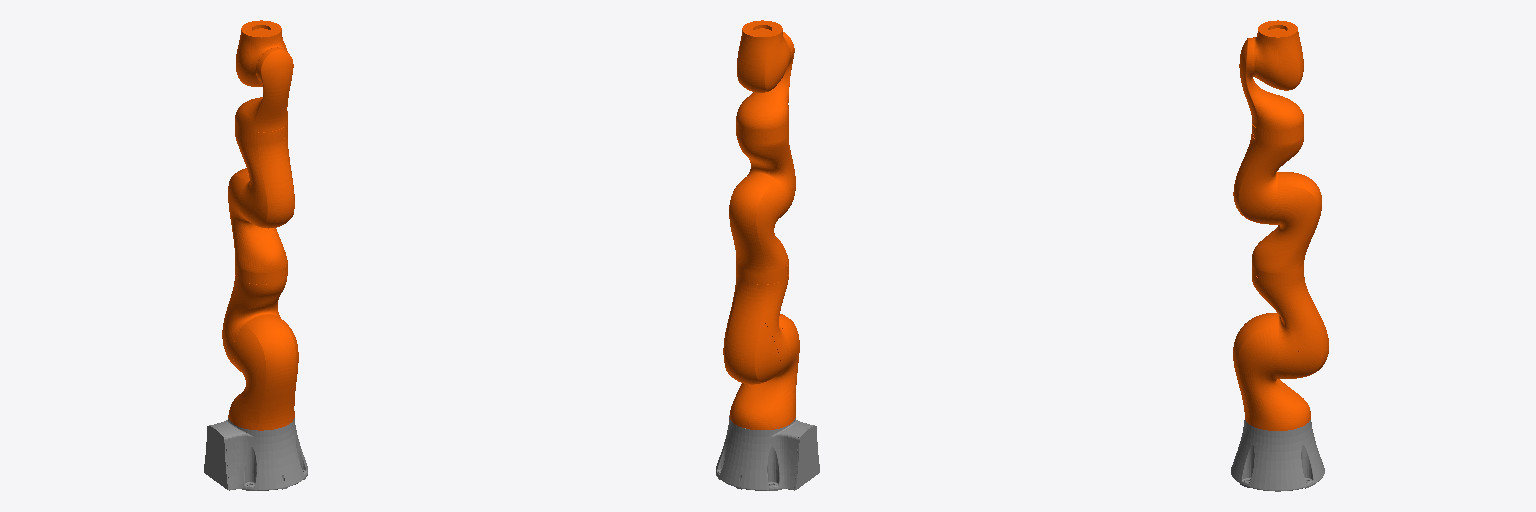
The robot description file, URDF, robot "kuka_iiwa":
<?xml version="1.0" ?>
<robot name="kuka_iiwa">

  <material name="LightGrey">
    <color rgba="0.6 0.6 0.6 1.0"/>
  </material>
  <material name="Orange">
    <color rgba="1.0 0.423529411765 0.0392156862745 1.0"/>
  </material>

  <link name="kuka_lbr_l_link_0">
    <inertial>
      <origin rpy="0 0 0" xyz="-0.1 0 0.07"/>
      <mass value="5"/>
      <inertia ixx="0.05" ixy="0" ixz="0" iyy="0.06" iyz="0" izz="0.03"/>
    </inertial>
    <visual name="visual_kuka_lbr_l_link_0">
      <origin rpy="0 0 0" xyz="0 0 0"/>
      <geometry>
        <mesh filename="../meshes/link_0.stl"/>
      </geometry>
      <material name="LightGrey"/>
    </visual>
    <collision name="collision_kuka_lbr_l_link_0">
      <origin xyz="0 0 0" rpy="0 0 0"/>
      <geometry>
        <mesh filename="../meshes/coarse/link_0.stl" scale="1.0 1.0 1.0"/>
      </geometry>
    </collision>
  </link>

  <joint name="kuka_lbr_l_joint_1" type="revolute">
    <parent link="kuka_lbr_l_link_0"/>
    <child link="kuka_lbr_l_link_1"/>
    <origin rpy="0 0 0" xyz="0 0 0.1575"/>
    <axis xyz="0 0 1"/>
    <limit effort="300" lower="-2.94" upper="2.94" velocity="1.48352986419"/>
    <dynamics damping="0.5"/>
  </joint>

  <link name="kuka_lbr_l_link_1">
    <inertial>
      <origin rpy="0 0 0" xyz="0 -0.03 0.12"/>
      <mass value="4"/>
      <inertia ixx="0.1" ixy="0" ixz="0" iyy="0.09" iyz="0" izz="0.02"/>
    </inertial>
    <visual name="visual_kuka_lbr_l_link_1">
      <origin rpy="0 0 0" xyz="0 0 0"/>
      <geometry>
        <mesh filename="../meshes/link_1.stl"/>
      </geometry>
      <material name="Orange"/>
    </visual>
    <collision name="collision_kuka_lbr_l_link_1">
      <origin xyz="0 0 0" rpy="0 0 0"/>
      <geometry>
        <mesh filename="../meshes/coarse/link_1.stl" scale="1.0 1.0 1.0"/>
      </geometry>
    </collision>
  </link>

  <joint name="kuka_lbr_l_joint_2" type="revolute">
    <parent link="kuka_lbr_l_link_1"/>
    <child link="kuka_lbr_l_link_2"/>
    <origin rpy="1.57079632679   0 3.14159265359" xyz="0 0 0.2025"/>
    <axis xyz="0 0 1"/>
    <limit effort="300" lower="-2.08" upper="2.08" velocity="1.48352986419"/>
    <dynamics damping="0.5"/>
  </joint>

  <link name="kuka_lbr_l_link_2">
    <inertial>
      <origin rpy="0 0 0" xyz="0.0003 0.059 0.042"/>
      <mass value="4"/>
      <inertia ixx="0.05" ixy="0" ixz="0" iyy="0.018" iyz="0" izz="0.044"/>
    </inertial>
    <visual name="visual_kuka_lbr_l_link_2">
      <origin rpy="0 0 0" xyz="0 0 0"/>
      <geometry>
        <mesh filename="../meshes/link_2.stl"/>
      </geometry>
      <material name="Orange"/>
    </visual>
    <collision name="collision_kuka_lbr_l_link_2">
      <origin xyz="0 0 0" rpy="0 0 0"/>
      <geometry>
        <mesh filename="../meshes/coarse/link_2.stl" scale="1.0 1.0 1.0"/>
      </geometry>
    </collision>
  </link>

  <joint name="kuka_lbr_l_joint_3" type="revolute">
    <parent link="kuka_lbr_l_link_2"/>
    <child link="kuka_lbr_l_link_3"/>
    <origin rpy="1.57079632679 0 3.14159265359" xyz="0 0.2045 0"/>
    <axis xyz="0 0 1"/>
    <limit effort="300" lower="-2.94" upper="2.94" velocity="1.7453292519"/>
    <dynamics damping="0.5"/>
  </joint>

  <link name="kuka_lbr_l_link_3">
    <inertial>
      <origin rpy="0 0 0" xyz="0 0.03 0.13"/>
      <mass value="3"/>
      <inertia ixx="0.08" ixy="0" ixz="0" iyy="0.075" iyz="0" izz="0.01"/>
    </inertial>
    <visual name="visual_kuka_lbr_l_link_3">
      <origin rpy="0 0 0" xyz="0 0 0"/>
      <geometry>
        <mesh filename="../meshes/link_3.stl"/>
      </geometry>
      <material name="Orange"/>
    </visual>
    <collision name="collision_kuka_lbr_l_link_3">
      <origin xyz="0 0 0" rpy="0 0 0"/>
      <geometry>
        <mesh filename="../meshes/coarse/link_3.stl" scale="1.0 1.0 1.0"/>
      </geometry>
    </collision>
  </link>

  <joint name="kuka_lbr_l_joint_4" type="revolute">
    <parent link="kuka_lbr_l_link_3"/>
    <child link="kuka_lbr_l_link_4"/>
    <origin rpy="1.57079632679 0 0" xyz="0 0 0.2155"/>
    <axis xyz="0 0 1"/>
    <limit effort="300" lower="-2.08" upper="2.08" velocity="1.3089969389"/>
    <dynamics damping="0.5"/>
  </joint>

  <link name="kuka_lbr_l_link_4">
    <inertial>
      <origin rpy="0 0 0" xyz="0 0.067 0.034"/>
      <mass value="2.7"/>
      <inertia ixx="0.03" ixy="0" ixz="0" iyy="0.01" iyz="0" izz="0.029"/>
    </inertial>
    <visual name="visual_kuka_lbr_l_link_4">
      <origin rpy="0 0 0" xyz="0 0 0"/>
      <geometry>
        <mesh filename="../meshes/link_4.stl"/>
      </geometry>
      <material name="Orange"/>
    </visual>
    <collision name="collision_kuka_lbr_l_link_4">
      <origin xyz="0 0 0" rpy="0 0 0"/>
      <geometry>
        <mesh filename="../meshes/coarse/link_4.stl" scale="1.0 1.0 1.0"/>
      </geometry>
    </collision>
  </link>

  <joint name="kuka_lbr_l_joint_5" type="revolute">
    <parent link="kuka_lbr_l_link_4"/>
    <child link="kuka_lbr_l_link_5"/>
    <origin rpy="-1.57079632679 3.14159265359 0" xyz="0 0.1845 0"/>
    <axis xyz="0 0 1"/>
    <limit effort="300" lower="-2.94" upper="2.94" velocity="2.2689280275"/>
    <dynamics damping="0.5"/>
  </joint>

  <link name="kuka_lbr_l_link_5">
    <inertial>
      <origin rpy="0 0 0" xyz="0.0001 0.021 0.076"/>
      <mass value="1.7"/>
      <inertia ixx="0.02" ixy="0" ixz="0" iyy="0.018" iyz="0" izz="0.005"/>
    </inertial>
    <visual name="visual_kuka_lbr_l_link_5">
      <origin rpy="0 0 0" xyz="0 0 0"/>
      <geometry>
        <mesh filename="../meshes/link_5.stl"/>
      </geometry>
      <material name="Orange"/>
    </visual>
    <collision name="collision_kuka_lbr_l_link_5">
      <origin xyz="0 0 0" rpy="0 0 0"/>
      <geometry>
        <mesh filename="../meshes/coarse/link_5.stl" scale="1.0 1.0 1.0"/>
      </geometry>
    </collision>
  </link>

  <joint name="kuka_lbr_l_joint_6" type="revolute">
    <parent link="kuka_lbr_l_link_5"/>
    <child link="kuka_lbr_l_link_6"/>
    <origin rpy="1.57079632679 0 0" xyz="0 0 0.2155"/>
    <axis xyz="0 0 1"/>
    <limit effort="300" lower="-2.08" upper="2.08" velocity="2.3561944901"/>
    <dynamics damping="0.5"/>
  </joint>

  <link name="kuka_lbr_l_link_6">
    <inertial>
      <origin rpy="0 0 0" xyz="0 0.0006 0.0004"/>
      <mass value="1.8"/>
      <inertia ixx="0.005" ixy="0" ixz="0" iyy="0.0036" iyz="0" izz="0.0047"/>
    </inertial>
    <visual name="visual_kuka_lbr_l_link_6">
      <origin rpy="0 0 0" xyz="0 0 0"/>
      <geometry>
        <mesh filename="../meshes/link_6.stl"/>
      </geometry>
      <material name="Orange"/>
    </visual>
    <collision name="collision_kuka_lbr_l_link_6">
      <origin xyz="0 0 0" rpy="0 0 0"/>
      <geometry>
        <mesh filename="../meshes/coarse/link_6.stl" scale="1.0 1.0 1.0"/>
      </geometry>
    </collision>
  </link>

  <joint name="kuka_lbr_l_joint_7" type="revolute">
    <parent link="kuka_lbr_l_link_6"/>
    <child link="kuka_lbr_l_link_7"/>
    <origin rpy="-1.57079632679 3.14159265359 0" xyz="0 0.081 0"/>
    <axis xyz="0 0 1"/>
    <limit effort="300" lower="-3.03" upper="3.03" velocity="2.3561944901"/>
    <dynamics damping="0.5"/>
  </joint>

  <link name="kuka_lbr_l_link_7">
    <inertial>
      <origin rpy="0 0 0" xyz="0 0 0.02"/>
      <mass value="0.3"/>
      <inertia ixx="0.001" ixy="0" ixz="0" iyy="0.001" iyz="0" izz="0.001"/>
    </inertial>
    <visual name="visual_kuka_lbr_l_link_7">
      <origin rpy="0 0 0" xyz="0 0 0"/>
      <geometry>
        <mesh filename="../meshes/link_7.stl"/>
      </geometry>
      <material name="LightGrey"/>
    </visual>
    <collision name="collision_kuka_lbr_l_link_7">
      <origin xyz="0 0 0" rpy="0 0 0"/>
      <geometry>
        <mesh filename="../meshes/coarse/link_7.stl" scale="1.0 1.0 1.0"/>
      </geometry>
    </collision>
  </link>

  <joint name="kuka_lbr_l_to_tcp" type="fixed">
    <parent link="kuka_lbr_l_link_7"/>
    <child link="kuka_lbr_l_tcp"/>
    <origin rpy="0 0 0" xyz="0 0 0.045"/>
    <axis xyz="0 0 1"/>
  </joint>

  <link name="kuka_lbr_l_tcp"/>
</robot>

--- Render facts (derived) ---
3 views of the same robot in one strip: view 1: azimuth 30°, elevation 25°; view 2: azimuth 150°, elevation 25°; view 3: azimuth 270°, elevation 25° (orthographic).
Model kuka_iiwa with 9 links and 8 joints (7 revolute, 1 fixed), rooted at kuka_lbr_l_link_0, posed all joints at 0.
Links seen in each view (by area): view 1: kuka_lbr_l_link_1, kuka_lbr_l_link_0, kuka_lbr_l_link_4, kuka_lbr_l_link_5, kuka_lbr_l_link_3, kuka_lbr_l_link_2, kuka_lbr_l_link_6; view 2: kuka_lbr_l_link_0, kuka_lbr_l_link_2, kuka_lbr_l_link_3, kuka_lbr_l_link_1, kuka_lbr_l_link_6, kuka_lbr_l_link_5, kuka_lbr_l_link_4; view 3: kuka_lbr_l_link_1, kuka_lbr_l_link_0, kuka_lbr_l_link_3, kuka_lbr_l_link_2, kuka_lbr_l_link_4, kuka_lbr_l_link_5, kuka_lbr_l_link_6.
Boxes of the visible links, box(x1,y1,x2,y2) form: kuka_lbr_l_link_1: box(228, 315, 298, 430); kuka_lbr_l_link_0: box(204, 418, 307, 490); kuka_lbr_l_link_4: box(235, 135, 294, 228); kuka_lbr_l_link_5: box(235, 48, 293, 143); kuka_lbr_l_link_3: box(228, 168, 287, 284); kuka_lbr_l_link_2: box(222, 275, 287, 371); kuka_lbr_l_link_6: box(236, 20, 287, 86); kuka_lbr_l_link_0: box(716, 415, 819, 490); kuka_lbr_l_link_2: box(723, 275, 790, 384); kuka_lbr_l_link_3: box(729, 173, 788, 284); kuka_lbr_l_link_1: box(729, 314, 799, 429); kuka_lbr_l_link_6: box(737, 20, 791, 92); kuka_lbr_l_link_5: box(736, 32, 794, 143); kuka_lbr_l_link_4: box(736, 135, 795, 217); kuka_lbr_l_link_1: box(1233, 313, 1310, 430); kuka_lbr_l_link_0: box(1231, 420, 1324, 491); kuka_lbr_l_link_3: box(1252, 172, 1321, 284); kuka_lbr_l_link_2: box(1252, 277, 1328, 378); kuka_lbr_l_link_4: box(1233, 134, 1303, 224); kuka_lbr_l_link_5: box(1239, 37, 1303, 143); kuka_lbr_l_link_6: box(1254, 20, 1303, 90).
Bounding box of the posed robot: 0.2572 × 0.2535 × 1.26 m (x, y, z).
7 mesh visuals loaded from 8 distinct referenced files (7 binary STL); not drawn: 1 (reference not matched to a file when rendering).